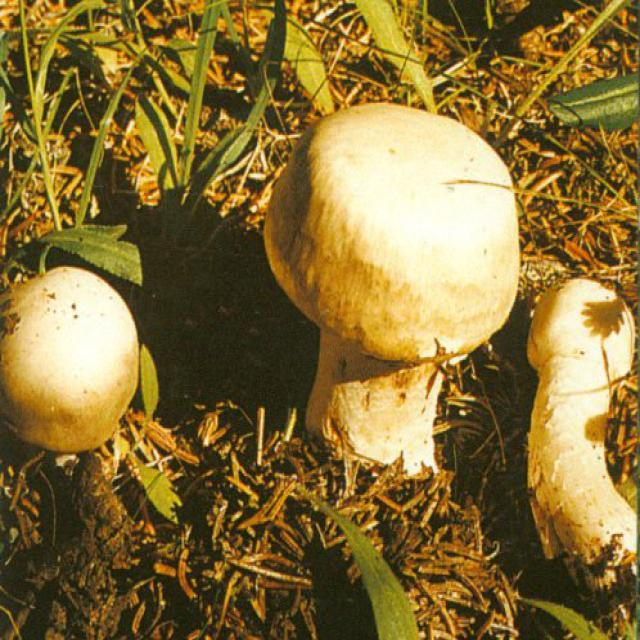Agaricus blazei Murill: (269, 104, 514, 470), (523, 277, 640, 575), (0, 257, 152, 473)
